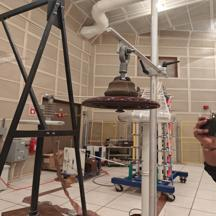insulator: (79, 70, 166, 121)
